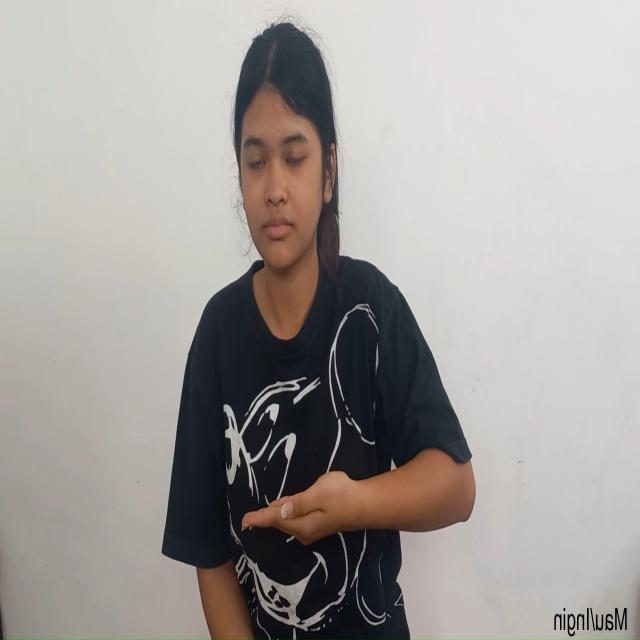Mau-Ingin -BISINDO-: (240, 445, 478, 551)
